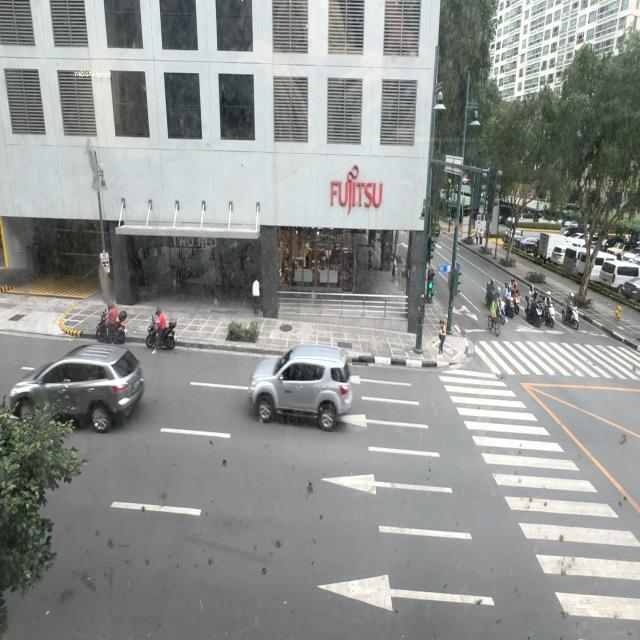waiting: (438, 320, 446, 356)
